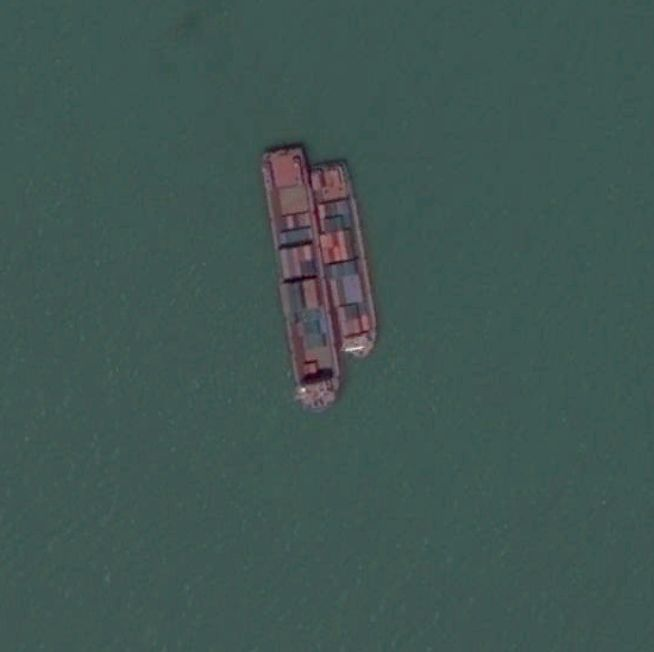boat: (257, 146, 342, 411), (308, 158, 380, 361)
